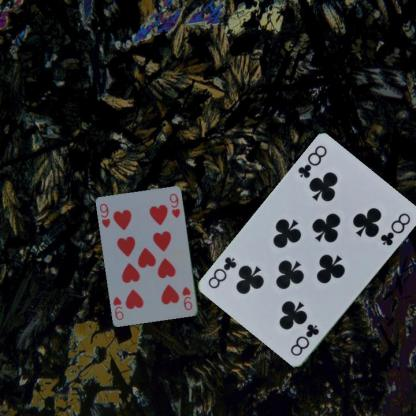8c: (295, 143, 328, 180), (288, 321, 320, 358)
9h: (97, 201, 112, 229), (180, 284, 194, 311)
